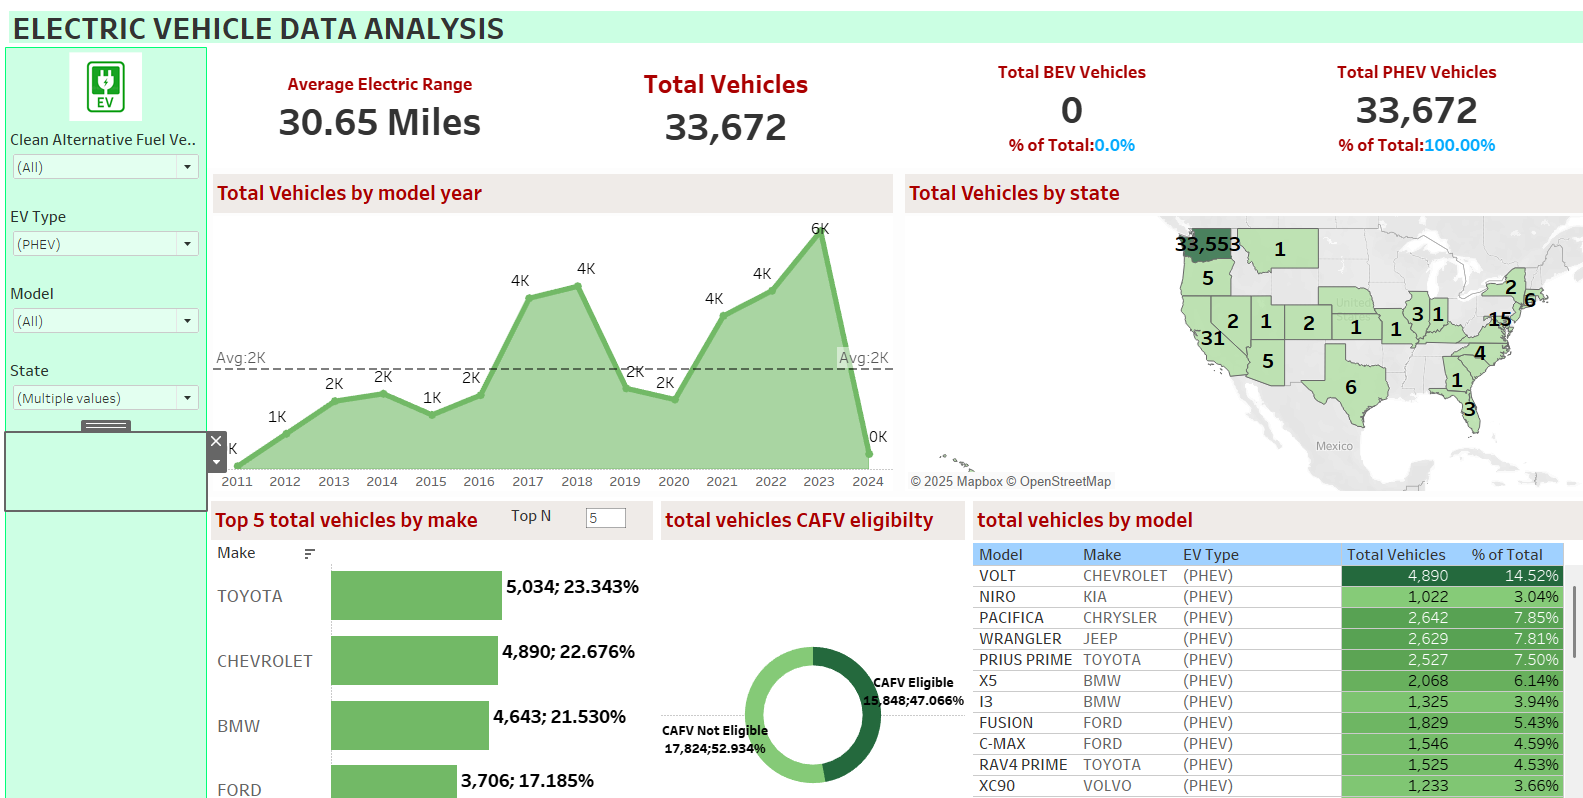

What the dashboard file says about the page in this screenshot:
{"tool":"tableau","page":{"name":"ELECTRIC VEHICLE DATA ANALYSIS","canvas":[1600,900],"ordinal":0},"visuals":[{"type":"title","box":[8,8,1584,40]},{"type":"worksheet","title":"average electric range","mark":"Automatic","box":[210,48,346,121]},{"type":"worksheet","title":"total vehicles","mark":"Automatic","box":[556,48,346,121]},{"type":"worksheet","title":"total BEV vehicles","mark":"Automatic","box":[902,48,345,121]},{"type":"worksheet","title":"total PHEV vehicles ","mark":"Automatic","box":[1247,48,345,121]},{"type":"image","param":"Image/download.png","box":[9,49,200,77]},{"type":"filter","title":"Total Vehicles by model year","param":"[federated.01rdx6m1gg19xk1blyqg60uifln7].[none:Clean Alternative Fuel Vehicle (C","box":[9,126,200,77]},{"type":"worksheet","title":"Total Vehicles by model year","mark":"Area","rows":["Calculation_632474340250247168","Calculation_632474340250247168"],"cols":["Model Year"],"box":[210,169,692,329]},{"type":"worksheet","title":"Total Vehicles by state","mark":"Multipolygon","box":[902,169,690,329]},{"type":"filter","title":"Total Vehicles by model year","param":"[federated.01rdx6m1gg19xk1blyqg60uifln7].[none:Electric Vehicle Type:nk]","box":[9,203,200,77]},{"type":"filter","title":"Total Vehicles by model year","param":"[federated.01rdx6m1gg19xk1blyqg60uifln7].[none:Model:nk]","box":[9,280,200,77]},{"type":"filter","title":"Total Vehicles by model year","param":"[federated.01rdx6m1gg19xk1blyqg60uifln7].[none:State:nk]","box":[9,357,200,77]},{"type":"blank","box":[9,434,200,77]},{"type":"worksheet","title":"Top 10 total vehicles by make","mark":"Automatic","rows":["Make"],"cols":["Calculation_632474340250247168"],"box":[210,498,450,394]},{"type":"worksheet","title":"total vehicles CAFV eligibilty","mark":"Pie","rows":["Calculation_632474340311818251","Calculation_632474340311818251"],"box":[660,498,312,394]},{"type":"worksheet","title":"total vehicles by model","mark":"Square","rows":["Model","Make","Electric Vehicle Type"],"box":[972,498,620,394]},{"type":"parameter","param":"[Parameters].[Parameter 1]","box":[514,506,118,28]},{"type":"blank","box":[9,511,200,76]},{"type":"blank","box":[9,587,200,76]},{"type":"blank","box":[9,663,200,76]},{"type":"blank","box":[9,739,200,76]},{"type":"blank","box":[9,815,200,76]}]}

Visuals, with their boxes on the page's 1600x900 design canvas (x1, y1, x2, y2). These are canvas units, not pixel positions in the 1583x798 screenshot, which may show the page scaled, cropped or inside an application window:
title: 8,8,1592,48
"average electric range" worksheet: 210,48,556,169
"total vehicles" worksheet: 556,48,902,169
"total BEV vehicles" worksheet: 902,48,1247,169
"total PHEV vehicles " worksheet: 1247,48,1592,169
image: 9,49,209,126
"Total Vehicles by model year" filter: 9,126,209,203
"Total Vehicles by model year" worksheet (Area marks): 210,169,902,498
"Total Vehicles by state" worksheet (Multipolygon marks): 902,169,1592,498
"Total Vehicles by model year" filter: 9,203,209,280
"Total Vehicles by model year" filter: 9,280,209,357
"Total Vehicles by model year" filter: 9,357,209,434
blank: 9,434,209,511
"Top 10 total vehicles by make" worksheet: 210,498,660,892
"total vehicles CAFV eligibilty" worksheet (Pie marks): 660,498,972,892
"total vehicles by model" worksheet (Square marks): 972,498,1592,892
parameter: 514,506,632,534
blank: 9,511,209,587
blank: 9,587,209,663
blank: 9,663,209,739
blank: 9,739,209,815
blank: 9,815,209,891
